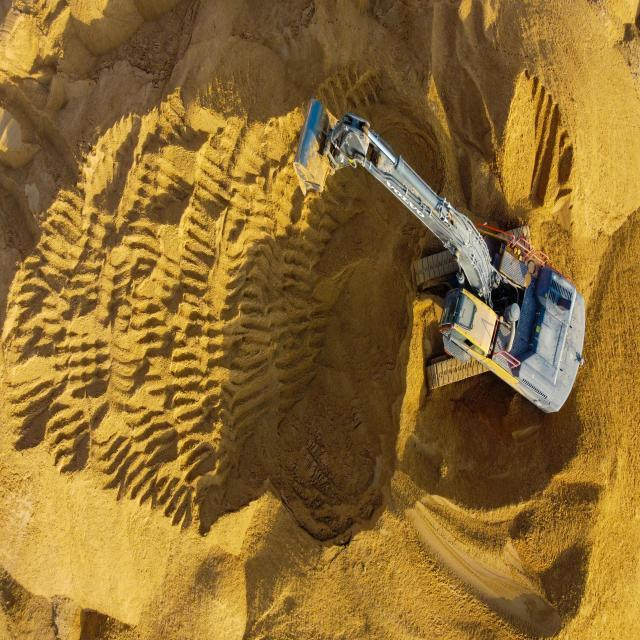excavator: (293, 100, 587, 415)
